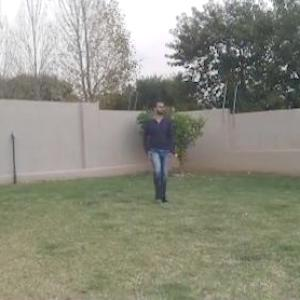follow: (147, 97, 175, 208)
